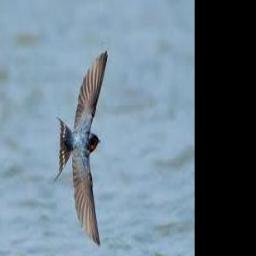Swallow: (51, 51, 107, 247)
